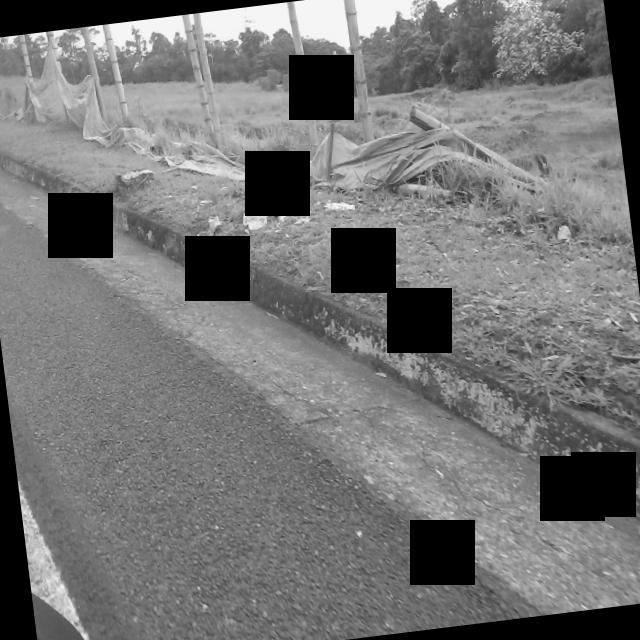DITCH: (0, 65, 640, 640), (0, 66, 640, 640)
